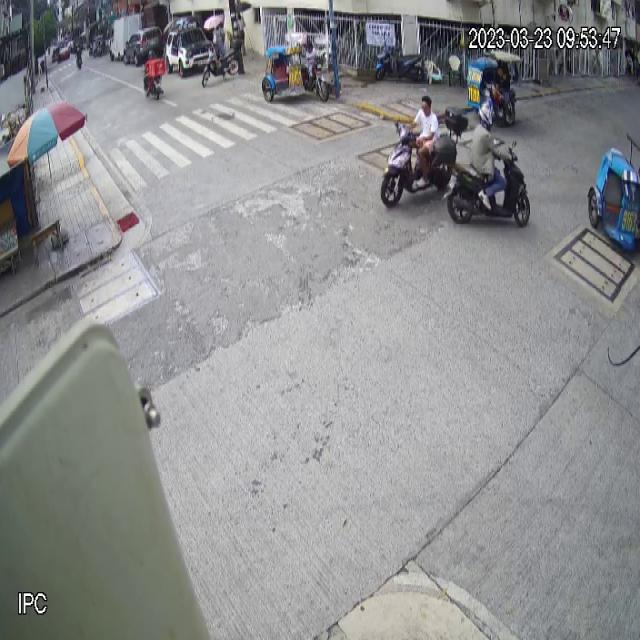Motorcycle: (443, 140, 531, 228), (381, 119, 433, 207)
Tricycle: (586, 136, 640, 248), (467, 50, 522, 127), (262, 43, 330, 103)
